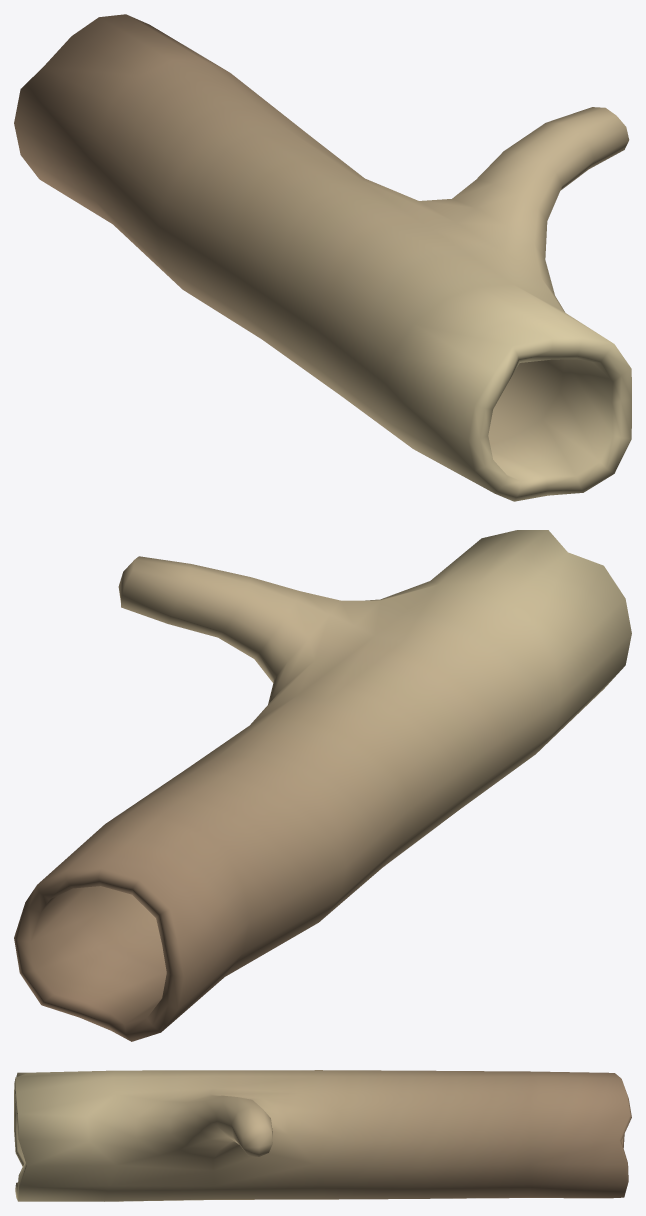
Rendered from WoodenLog-1.fbx.
3 views of the same model, one above another, from view 1: azimuth 30°, elevation 25°; view 2: azimuth 150°, elevation 25°; view 3: azimuth 270°, elevation 25° (orthographic). The views are drawn at different scales.
Parts seen in each view (by area): view 1: Wood.001; view 2: Wood.001; view 3: Wood.001.
Boxes of the visible parts, <box> form: Wood.001: <box>14,14,631,501</box>; Wood.001: <box>14,530,631,1041</box>; Wood.001: <box>14,1070,631,1201</box>.
Bounding box in the file's own units: 129 × 78.25 × 297.
